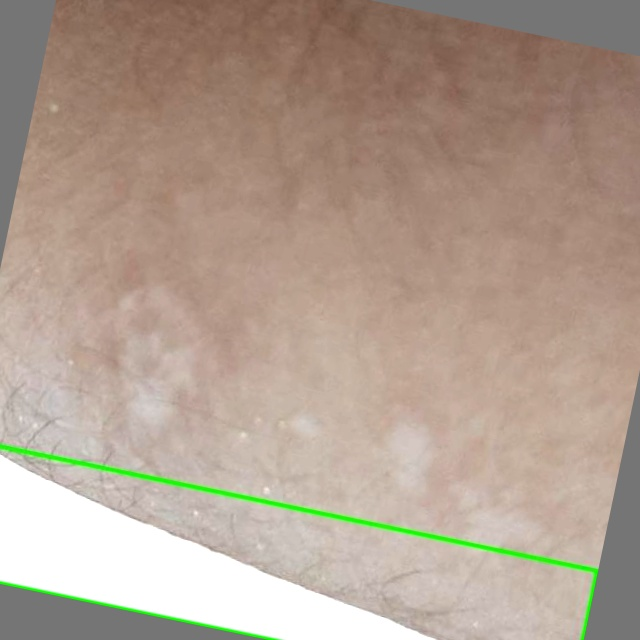Atopic Dermatitis: (0, 445, 597, 639)
